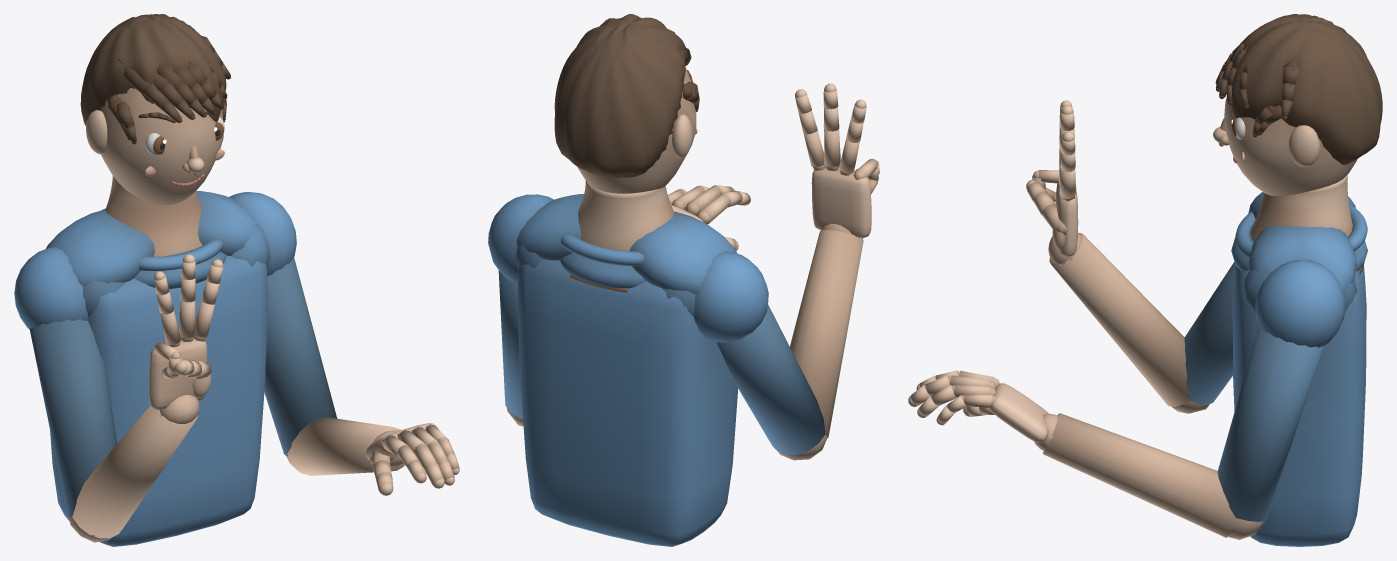
3 views of the same model, side by side, from view 1: azimuth 30°, elevation 25°; view 2: azimuth 150°, elevation 25°; view 3: azimuth 270°, elevation 25° (orthographic).
Parts seen in each view (by area): view 1: LSC_Body; view 2: LSC_Body; view 3: LSC_Body.
Boxes of the visible parts, x1=… form: LSC_Body: x1=14, y1=14, x2=459, y2=546; LSC_Body: x1=488, y1=14, x2=879, y2=546; LSC_Body: x1=908, y1=14, x2=1382, y2=546.
Bounding box in the file's own units: 0.4304 × 0.713 × 0.6104.
